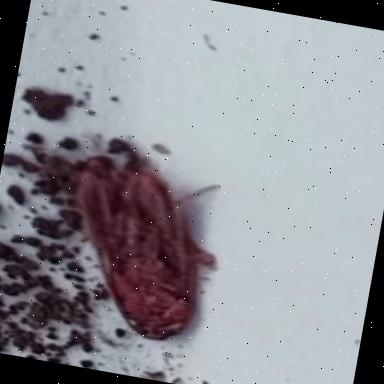pbw: (52, 148, 236, 358)
